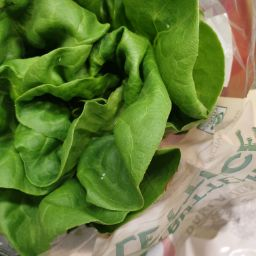Spinach: (4, 4, 235, 236), (29, 31, 167, 193)
